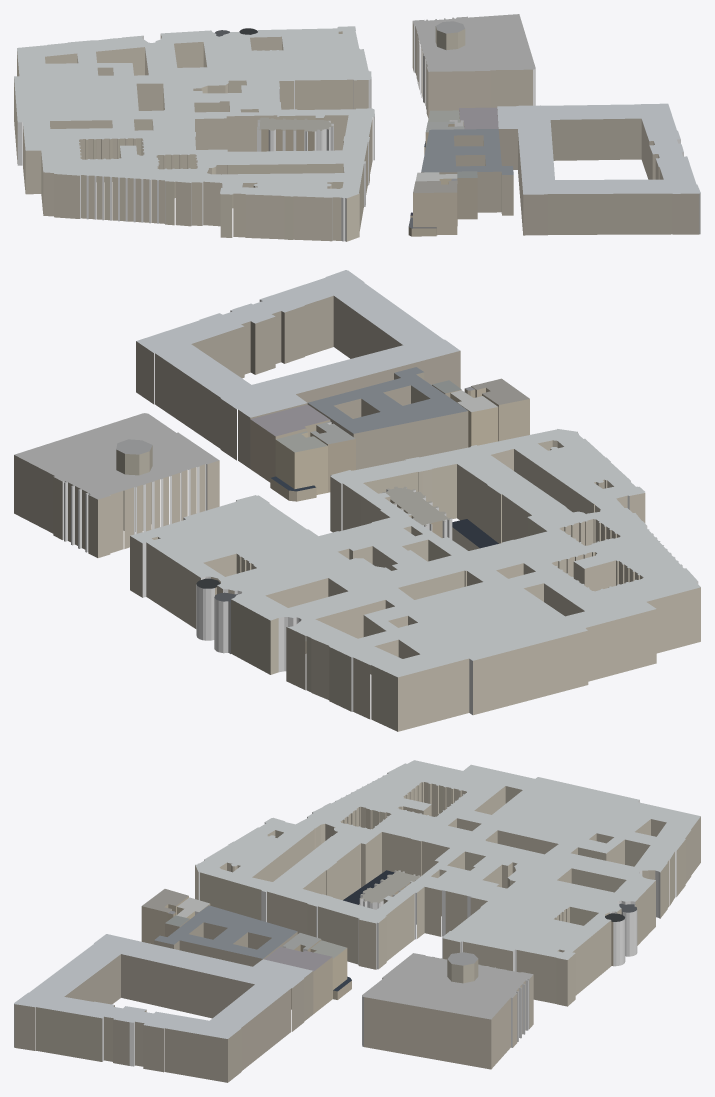
3 renders of one model, top to bottom at view 1: azimuth 30°, elevation 25°; view 2: azimuth 150°, elevation 25°; view 3: azimuth 270°, elevation 25°, orthographic. The views are drawn at different scales.
Parts seen in each view (by area): view 1: tuile; view 2: tuile; view 3: tuile.
Boxes of the visible parts, x1,y1,x2,y2 form: tuile: (14, 14, 700, 241); tuile: (14, 270, 700, 731); tuile: (14, 760, 700, 1082).
Bounding box in the file's own units: 338 × 40.6 × 350.
